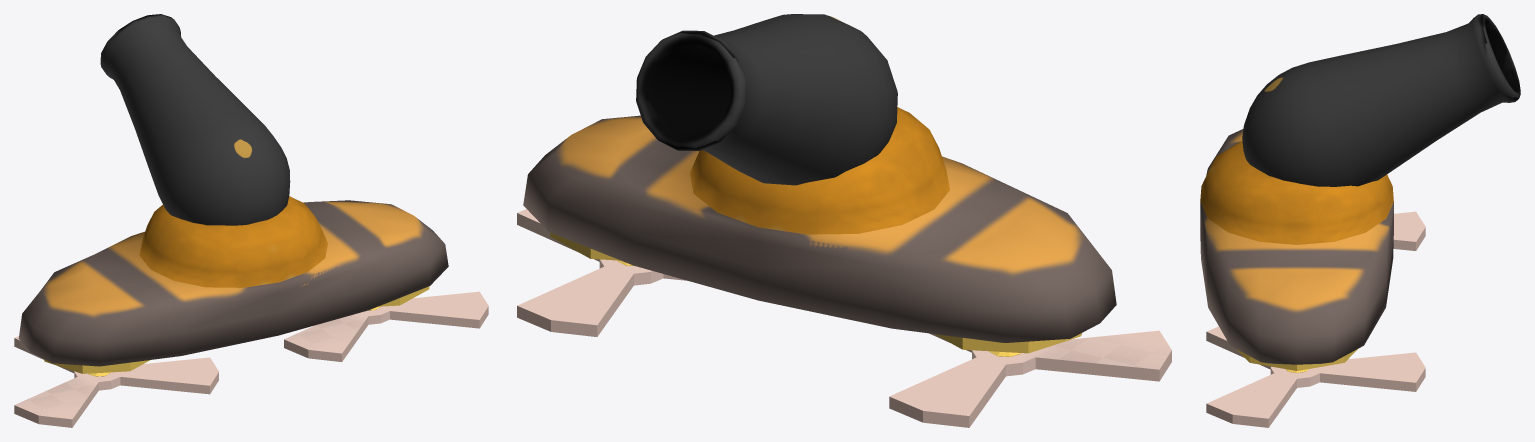
File: cannon.glb
The picture shows the model from 3 angles, left to right: view 1: azimuth 30°, elevation 25°; view 2: azimuth 150°, elevation 25°; view 3: azimuth 270°, elevation 25°; orthographic projection. The views are drawn at different scales.
Visible parts, largest first — view 1: CannonBase, Cannon, Blades.L, Blades.R, Fanbase.R; view 2: CannonBase, Cannon, Blades.L, Blades.R, Fanbase.R; view 3: CannonBase, Cannon, Blades.R, Blades.L, Fanbase.L.
Part boxes in pixels (x1,y1,x2,y2): CannonBase: (18,196,448,366); Cannon: (100,14,290,225); Blades.L: (14,336,218,427); Blades.R: (284,291,488,361); Fanbase.R: (44,359,150,376); CannonBase: (523,107,1116,342); Cannon: (636,14,897,185); Blades.L: (889,330,1171,427); Blades.R: (517,209,687,336); Fanbase.R: (934,333,1081,356); CannonBase: (1200,129,1393,364); Cannon: (1242,14,1520,186); Blades.R: (1206,326,1425,427); Blades.L: (1393,211,1425,250); Fanbase.L: (1236,349,1357,372).
Bounding box in the file's own units: 7.6 × 4.26 × 4.23.
1 material, 1 textured.
